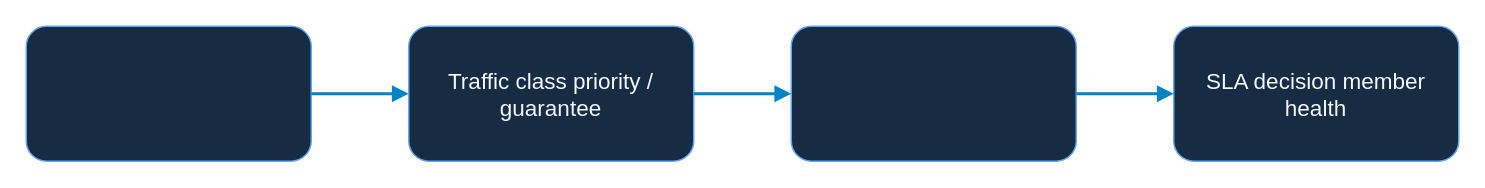
Some shapes in this 1485 by 188 pixel diagram are drawn without their labels. Here are the shapes that lost their labels. From the top down, the centre of each, then its label:
At [168,93]: "SLA health-check probe + class-id".
At [933,93]: "Egress shaper per-WAN profile".
